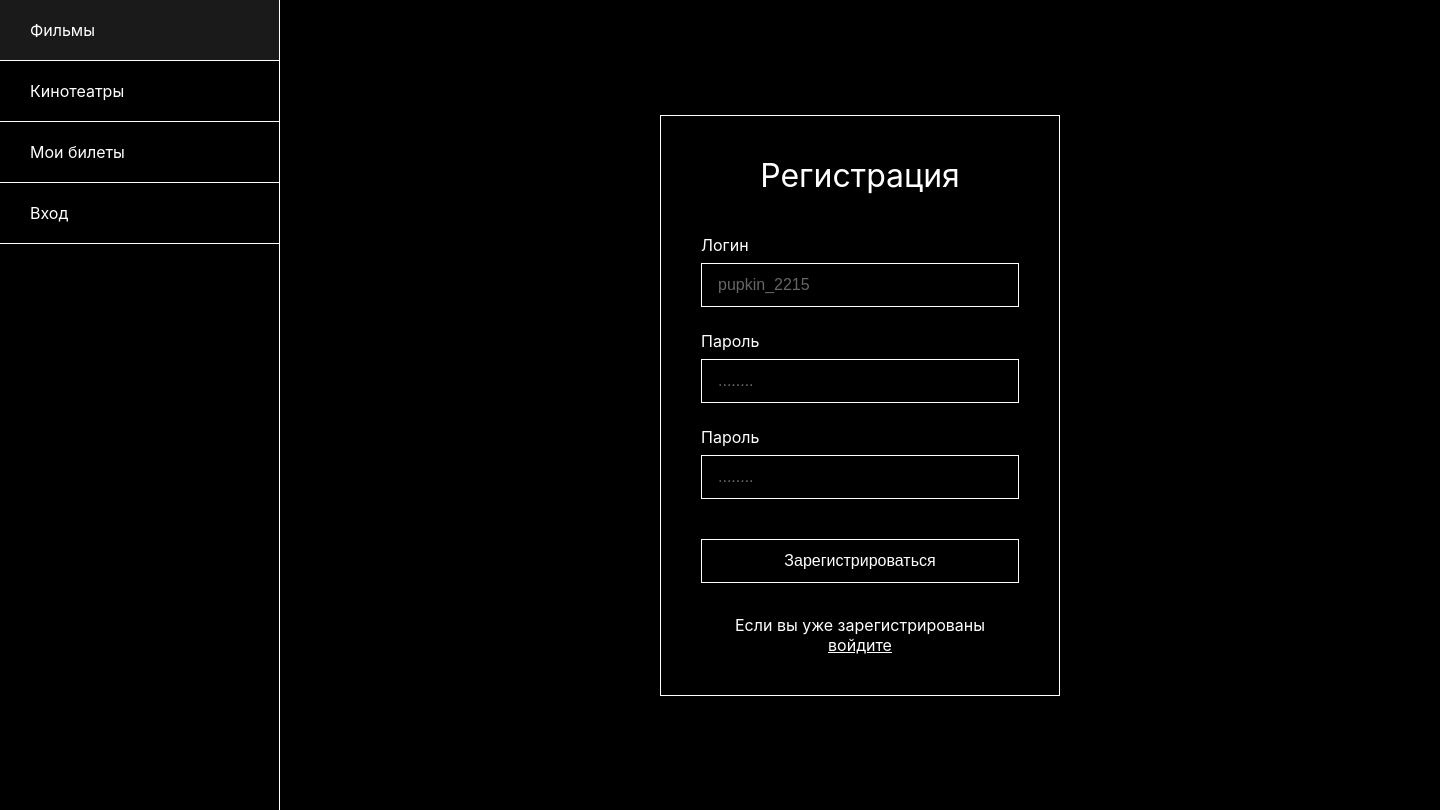
RegisterPage › shows validation error for weak password
Step 1. Type "weakpass" into the 1st password field with placeholder "........" → (860, 380), box x1=701 y1=358 x2=1019 y2=402
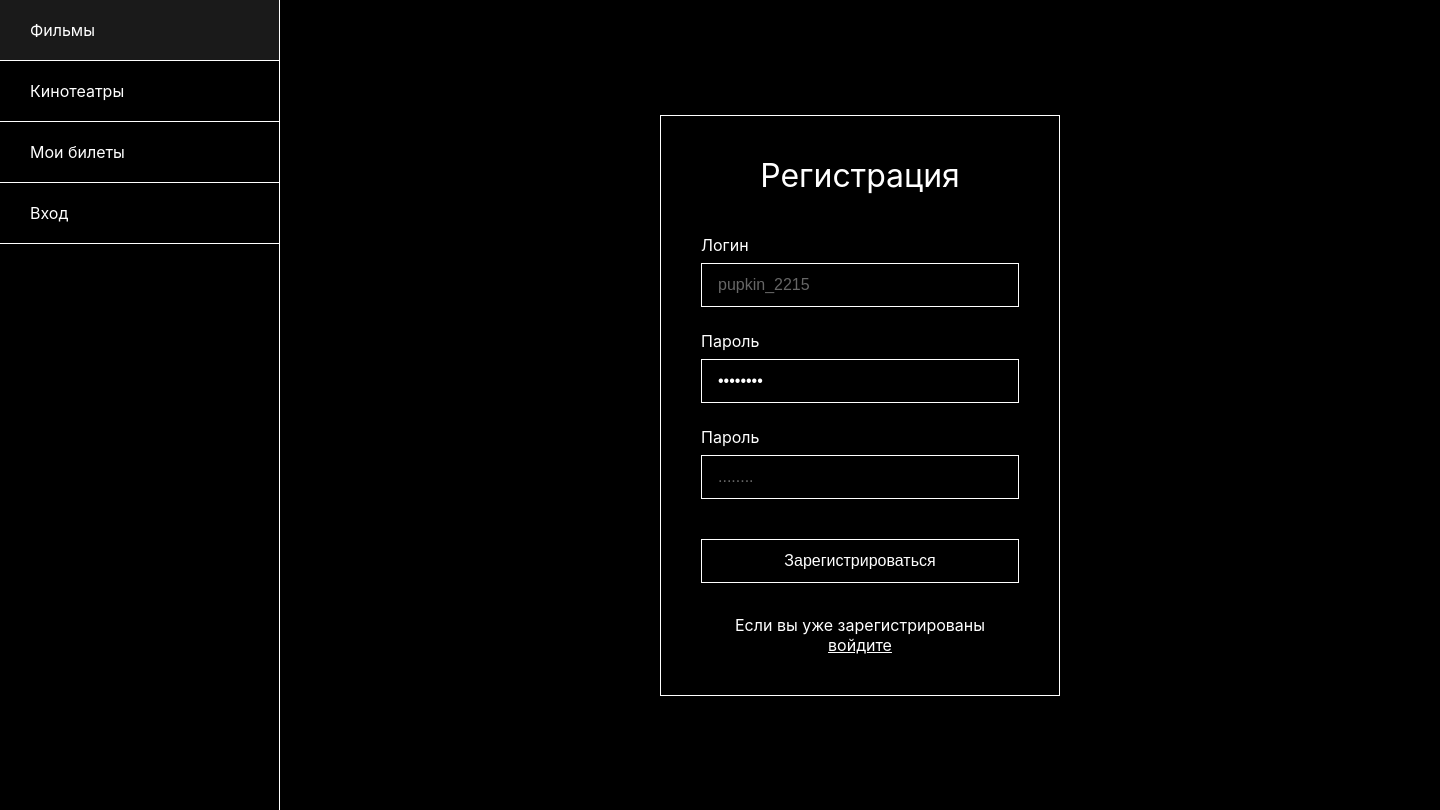
Step 2. Click the button "Зарегистрироваться" → (860, 560), box x1=701 y1=538 x2=1019 y2=582
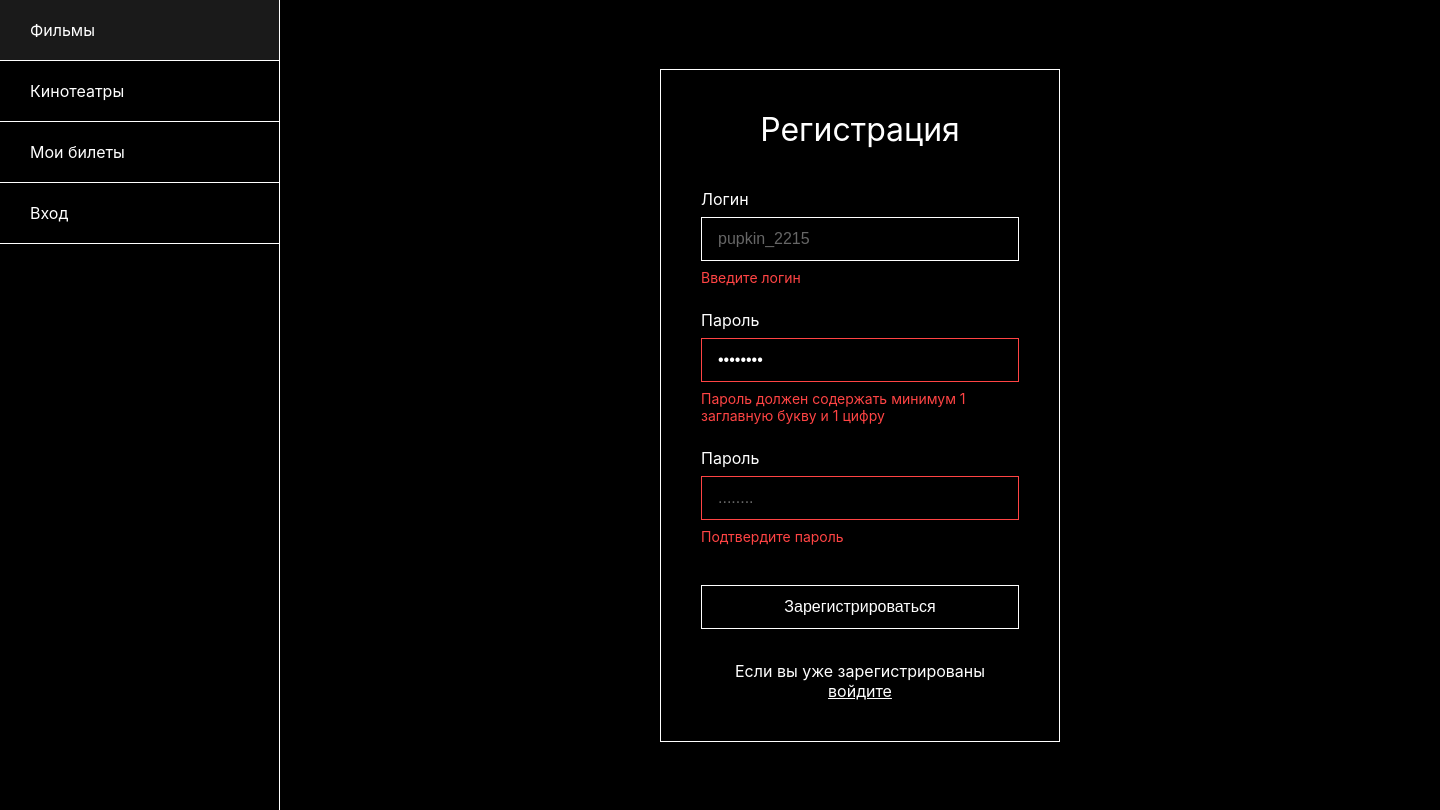
expect the text "Пароль должен содержать минимум 1 заглавную букву и 1 цифру" is shown: met, box x1=701 y1=390 x2=966 y2=424
